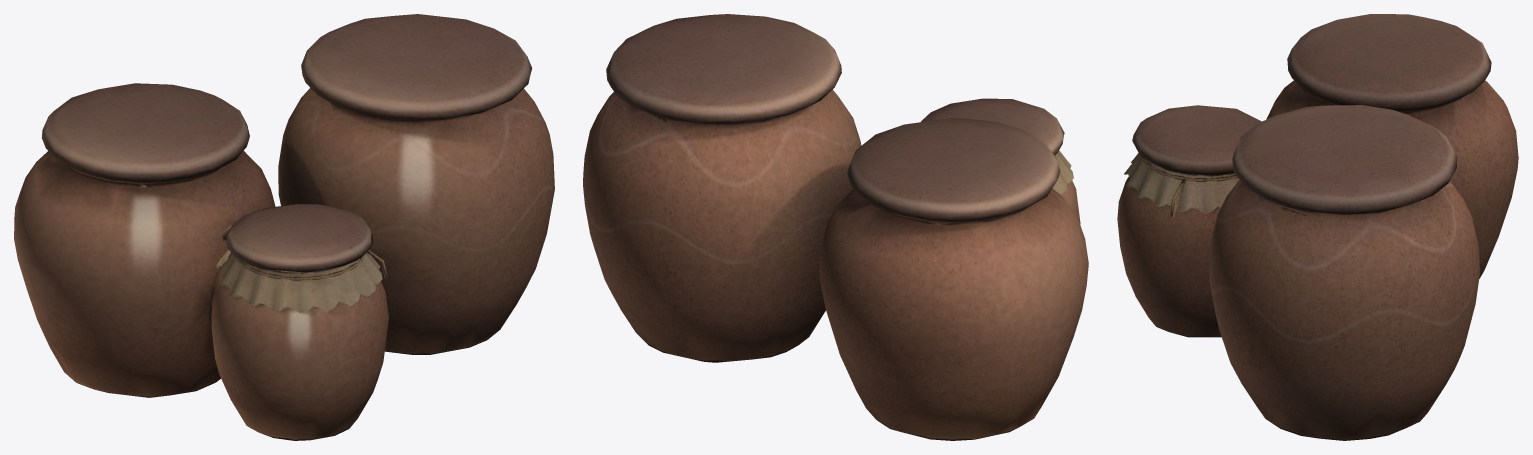
Rendered from jars.glb.
3 renders of one model, left to right at view 1: azimuth 30°, elevation 25°; view 2: azimuth 150°, elevation 25°; view 3: azimuth 270°, elevation 25°, orthographic. The views are drawn at different scales.
Parts seen in each view (by area): view 1: jars_lod0; view 2: jars_lod0; view 3: jars_lod0.
Boxes of the visible parts, box(x1,y1,x2,y2) form: jars_lod0: box(14, 14, 554, 440); jars_lod0: box(583, 14, 1088, 440); jars_lod0: box(1117, 14, 1518, 440).
Bounding box in the file's own units: 1.95 × 1.05 × 1.44.
Materials: 1 (1 with a texture image).
